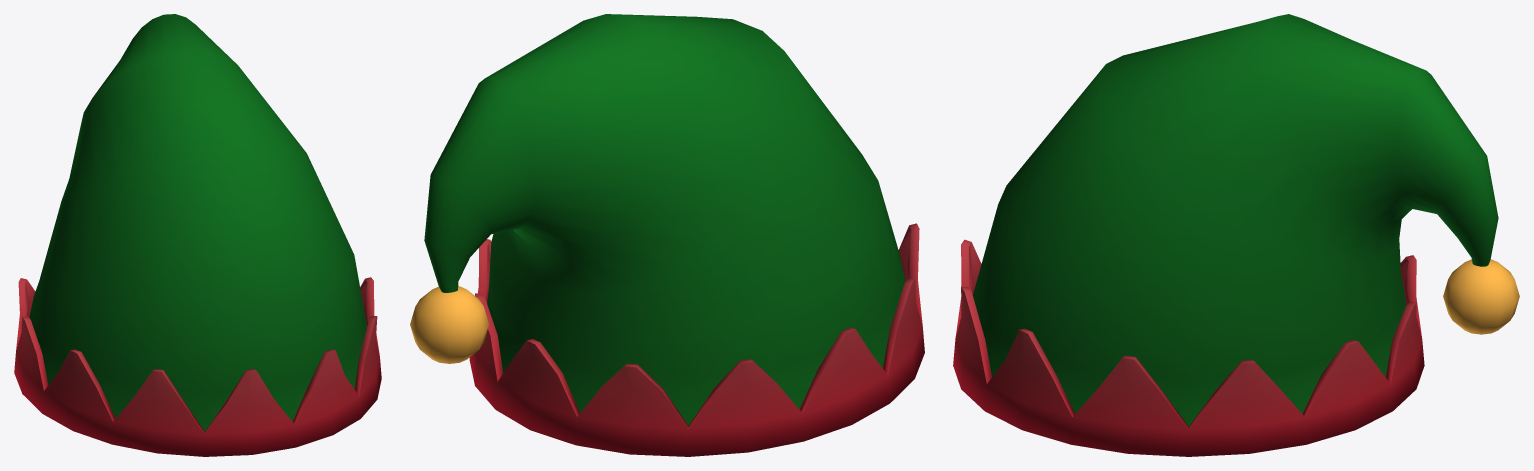
File: ElfHat.FBX
The picture shows the model from 3 angles, left to right: view 1: azimuth 30°, elevation 25°; view 2: azimuth 150°, elevation 25°; view 3: azimuth 270°, elevation 25°; orthographic projection. The views are drawn at different scales.
Parts seen in each view (by area): view 1: ElfHat; view 2: ElfHat; view 3: ElfHat.
Boxes of the visible parts, left/top/right/bottom form: ElfHat: left=14, top=14, right=381, bottom=456; ElfHat: left=410, top=14, right=924, bottom=456; ElfHat: left=953, top=14, right=1519, bottom=456.
Bounding box in the file's own units: 34.19 × 31.39 × 44.86.
Materials: 1 (1 with a texture image).
